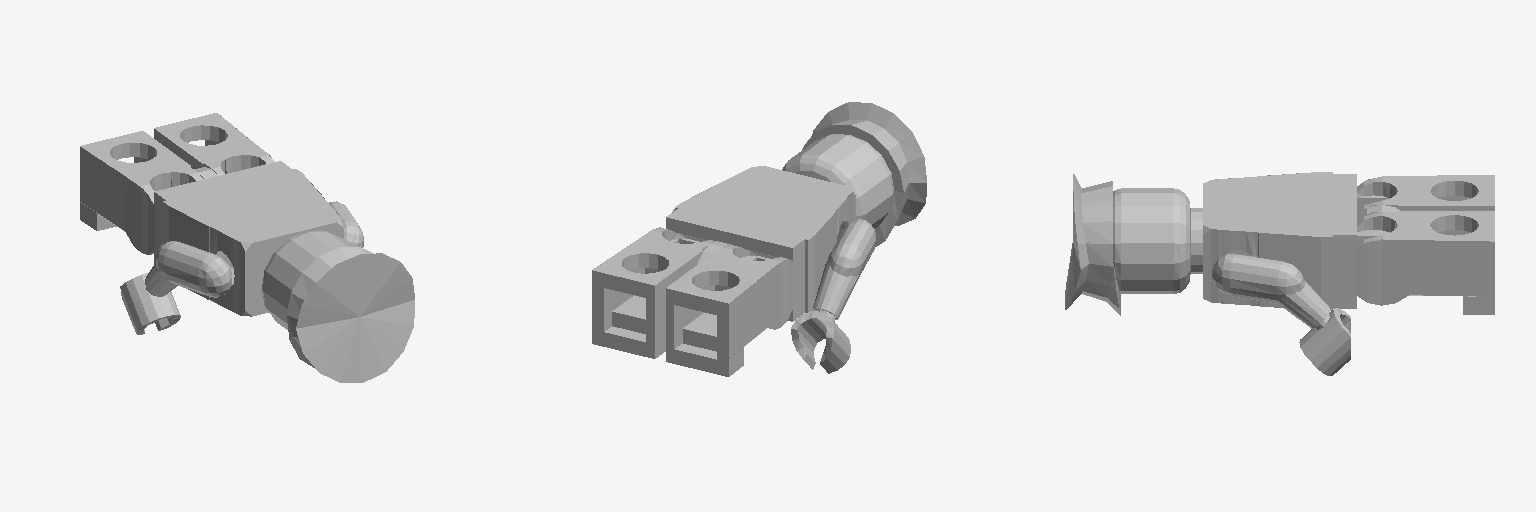
File: dude1.obj
The picture shows the model from 3 angles: view 1: azimuth 30°, elevation 25°; view 2: azimuth 150°, elevation 25°; view 3: azimuth 270°, elevation 25°; orthographic projection.
Parts seen in each view (by area): view 1: mesh01; view 2: mesh01; view 3: mesh01.
Part boxes in pixels (x1,y1,x2,y2): mesh01: (80,113,414,382); mesh01: (592,102,926,376); mesh01: (1065,172,1494,375).
Size of the model in its own units: 0.0228 by 0.0168 by 0.0424.